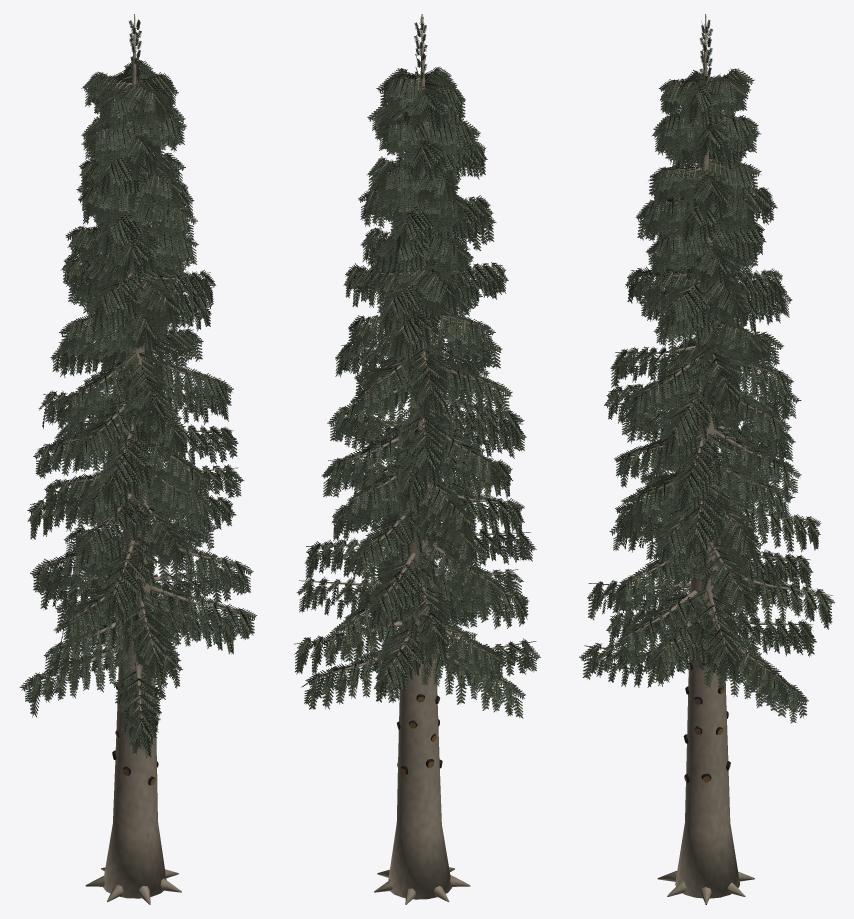
Rendered from Sitka_Mature_01_LowPruned_Recent_LOD0.fbx.
3 renders of one model, left to right at view 1: azimuth 30°, elevation 25°; view 2: azimuth 150°, elevation 25°; view 3: azimuth 270°, elevation 25°, orthographic.
Visible parts, largest first — view 1: Sitka_Mature_01_LowPruned_Recent_LOD0; view 2: Sitka_Mature_01_LowPruned_Recent_LOD0; view 3: Sitka_Mature_01_LowPruned_Recent_LOD0.
Part boxes in pixels (box(x1,y1,x2,y2)): Sitka_Mature_01_LowPruned_Recent_LOD0: box(19, 14, 257, 904); Sitka_Mature_01_LowPruned_Recent_LOD0: box(294, 14, 540, 904); Sitka_Mature_01_LowPruned_Recent_LOD0: box(579, 14, 834, 904).
Bounding box in the file's own units: 759 × 2801 × 775.
3 materials, 3 textured.
